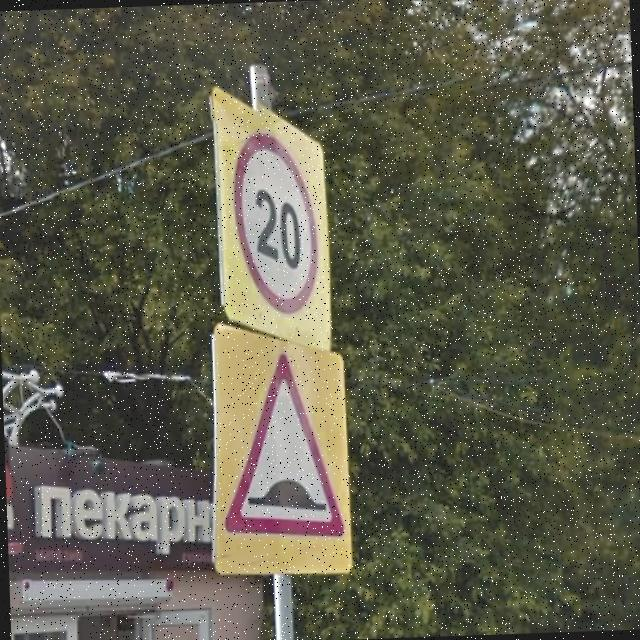Ograniczenie predkosci do 20: (229, 125, 324, 318)
